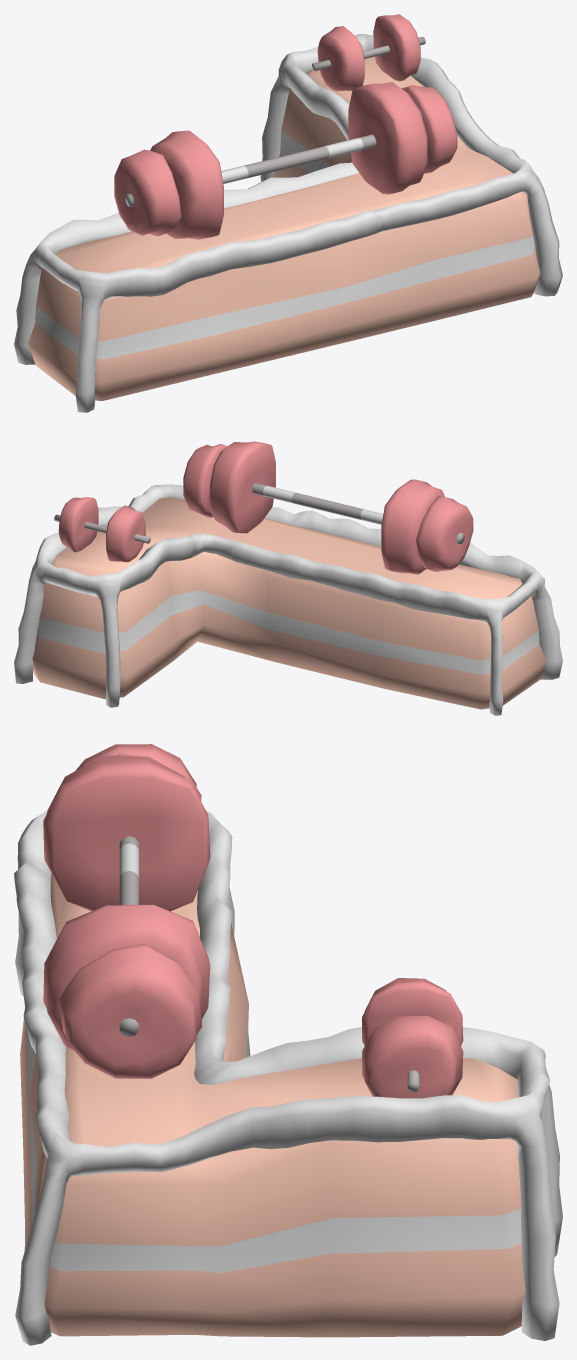
The model's file is Tower_Support_Slow (3).fbx.
The picture shows the model from 3 angles, top to bottom: view 1: azimuth 30°, elevation 25°; view 2: azimuth 150°, elevation 25°; view 3: azimuth 270°, elevation 25°; orthographic projection. The views are drawn at different scales.
Parts seen in each view (by area): view 1: Cube.006, Cube.007, Cylinder.004; view 2: Cube.006, Cube.007, Cylinder.004; view 3: Cube.006, Cylinder.004, Cube.007.
Boxes of the visible parts, x1,y1,x2,y2 form: Cube.006: [28, 56, 540, 400]; Cube.007: [14, 34, 562, 412]; Cylinder.004: [114, 14, 457, 239]; Cube.006: [32, 497, 545, 709]; Cube.007: [14, 484, 562, 715]; Cylinder.004: [54, 441, 473, 574]; Cube.006: [20, 874, 525, 1337]; Cylinder.004: [43, 744, 463, 1098]; Cube.007: [14, 810, 562, 1345].
Size of the model in its own units: 281 by 120 by 178.
